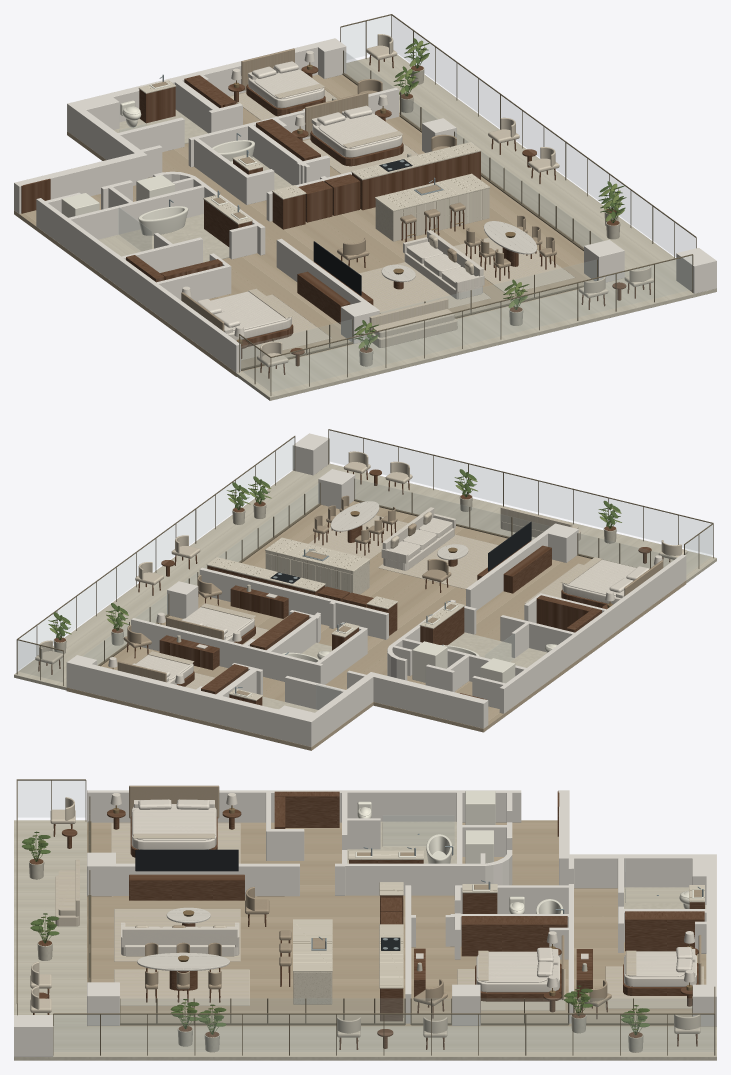
The picture shows the model from 3 angles, top to bottom: view 1: azimuth 30°, elevation 25°; view 2: azimuth 150°, elevation 25°; view 3: azimuth 270°, elevation 25°; orthographic projection. The views are drawn at different scales.
Bounding box in the file's own units: 13.59 × 1.42 × 17.04.
17 materials, 8 textured.
